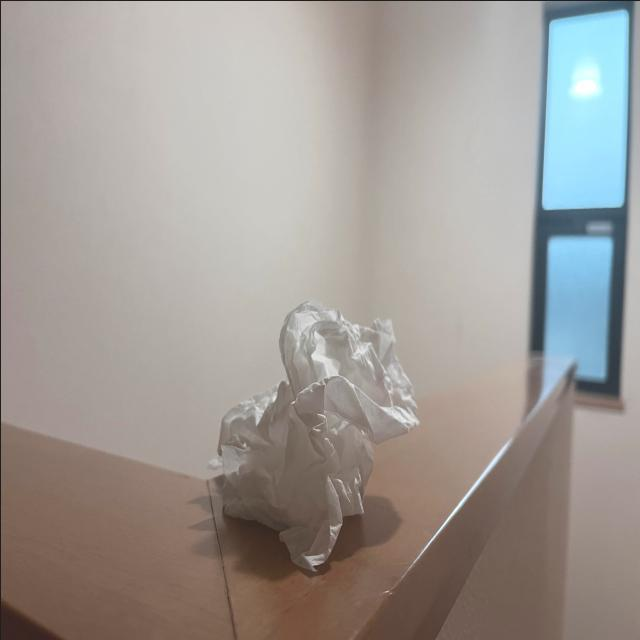Paper: (200, 310, 416, 571)
